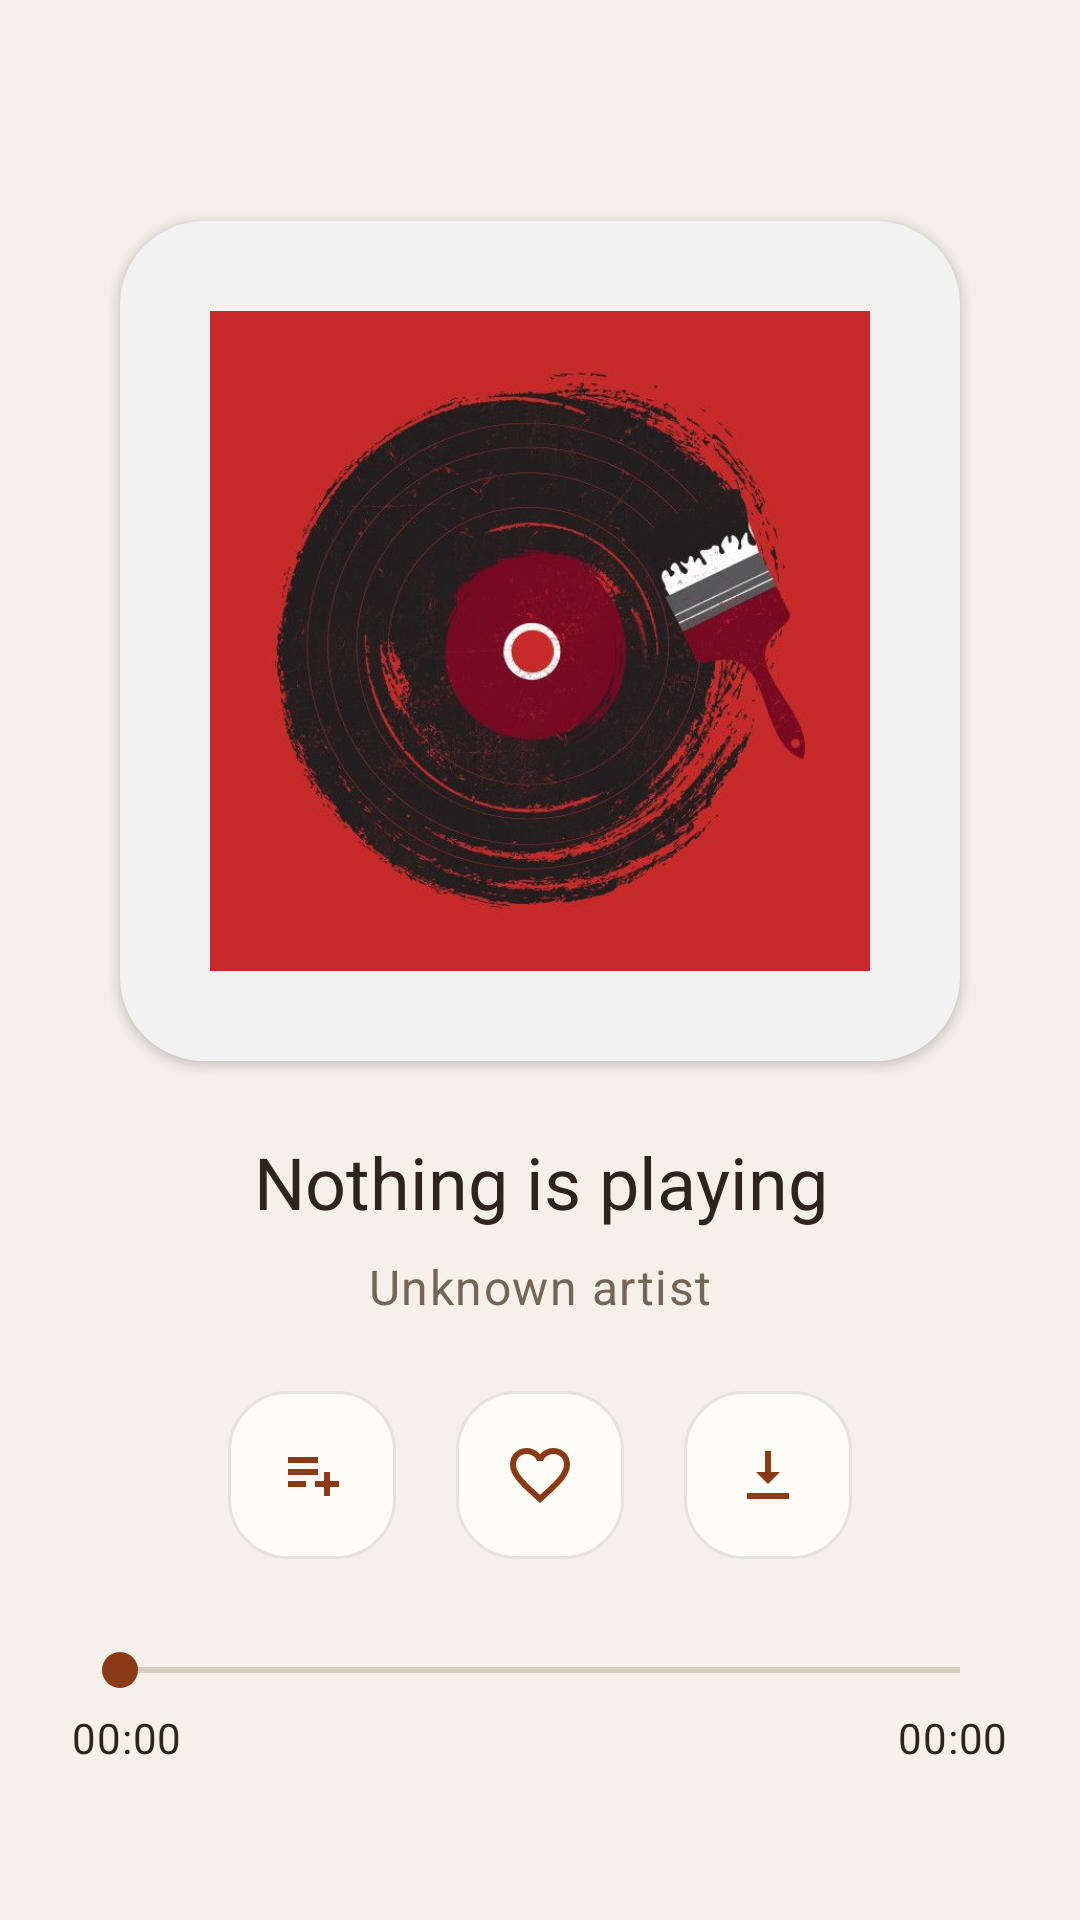

Icons on this 1080 x 1920 Android screen, each with the point to tap as [x,y]:
Add to favorites: [540,1475]
Add to playlist: [312,1475]
Download: [768,1475]
